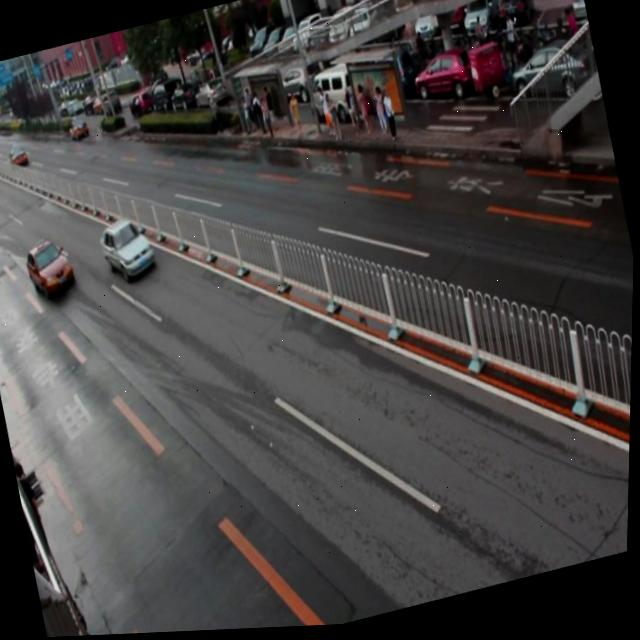car: (95, 211, 160, 287), (24, 236, 78, 301)
